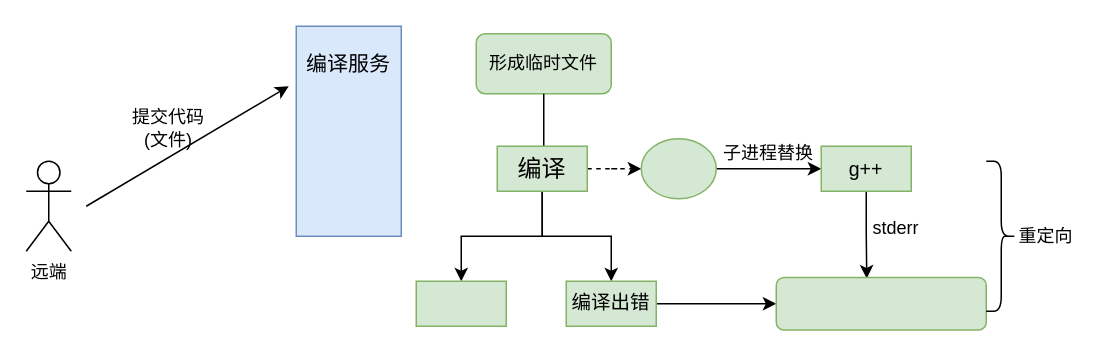
Some shapes in this 1118 by 360 pixel diagram are drawn without their labels. The box of each missing label's shape, as (x1, y1, x2, y2) in pixels:
fork(): (640, 137, 716, 199)
形成临时文件 保存错误、警告信息: (775, 276, 986, 330)
编译成功: (415, 280, 506, 326)
